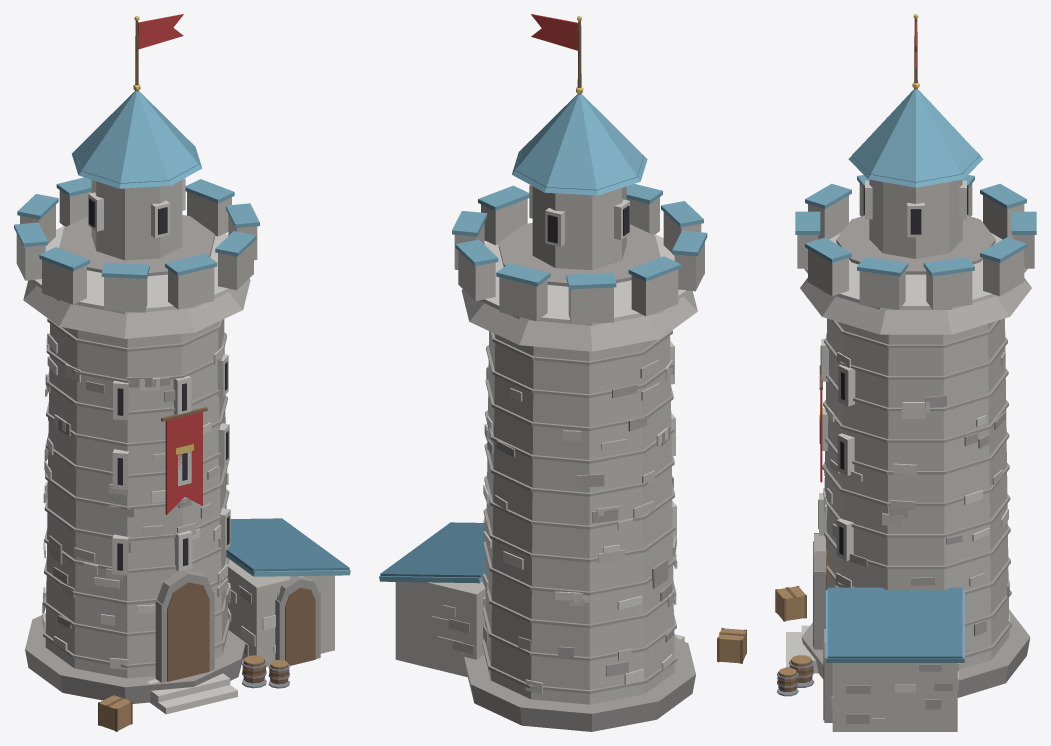
File: Building_Tower.glb
3 renders of one model, left to right at view 1: azimuth 30°, elevation 25°; view 2: azimuth 150°, elevation 25°; view 3: azimuth 270°, elevation 25°, orthographic. The views are drawn at different scales.
Visible parts, largest first — view 1: Tower; view 2: Tower; view 3: Tower.
Part boxes in pixels (x1=…): Tower: x1=14, y1=14, x2=350, y2=731; Tower: x1=379, y1=14, x2=746, y2=731; Tower: x1=775, y1=14, x2=1036, y2=731.
Size of the model in its own units: 9.13 by 20.43 by 7.54.
